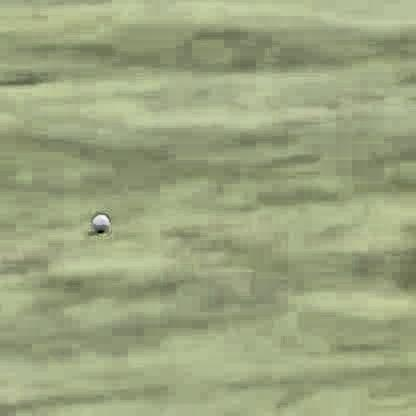golfball: (89, 212, 108, 231)
